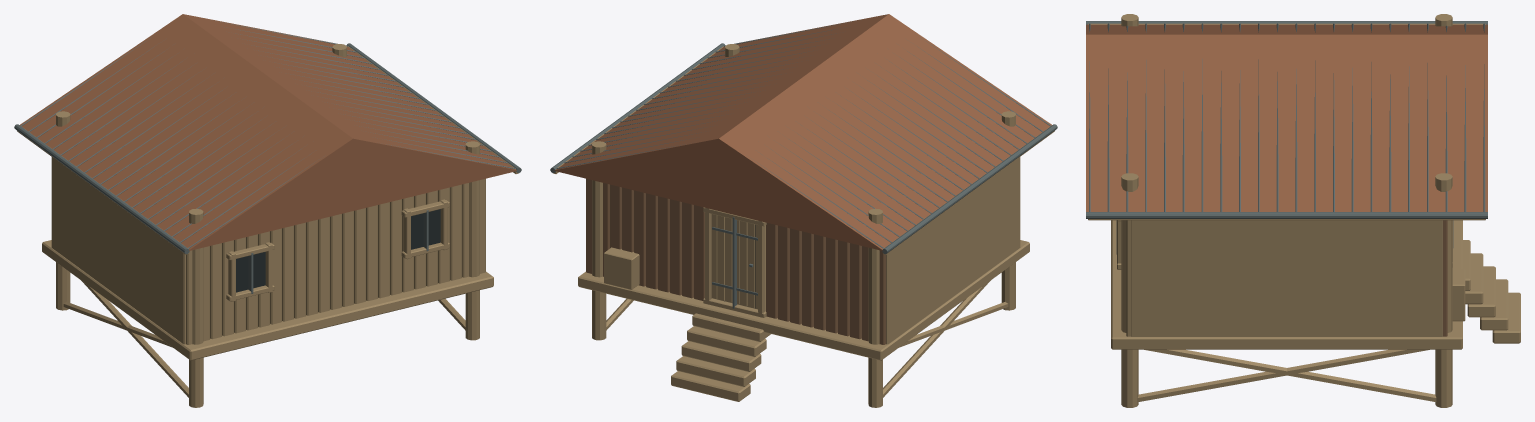
Rendered from house_shack.glb.
3 renders of one model, left to right at view 1: azimuth 30°, elevation 25°; view 2: azimuth 150°, elevation 25°; view 3: azimuth 270°, elevation 25°, orthographic. The views are drawn at different scales.
Visible parts, largest first — view 1: house_shack; view 2: house_shack; view 3: house_shack.
Part boxes in pixels (x1,y1,x2,y2): house_shack: (14, 14, 521, 407); house_shack: (550, 14, 1057, 407); house_shack: (1086, 14, 1520, 407).
Bounding box in the file's own units: 7.3 × 5.1 × 6.92.
